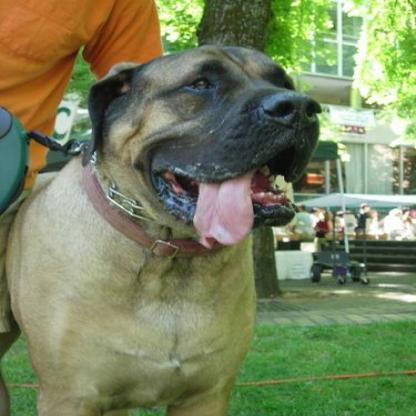bull_mastiff: (0, 34, 333, 411)
